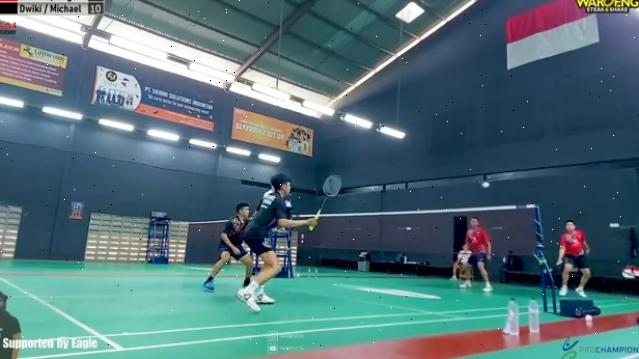Shuttlecock: (478, 180, 493, 191)
